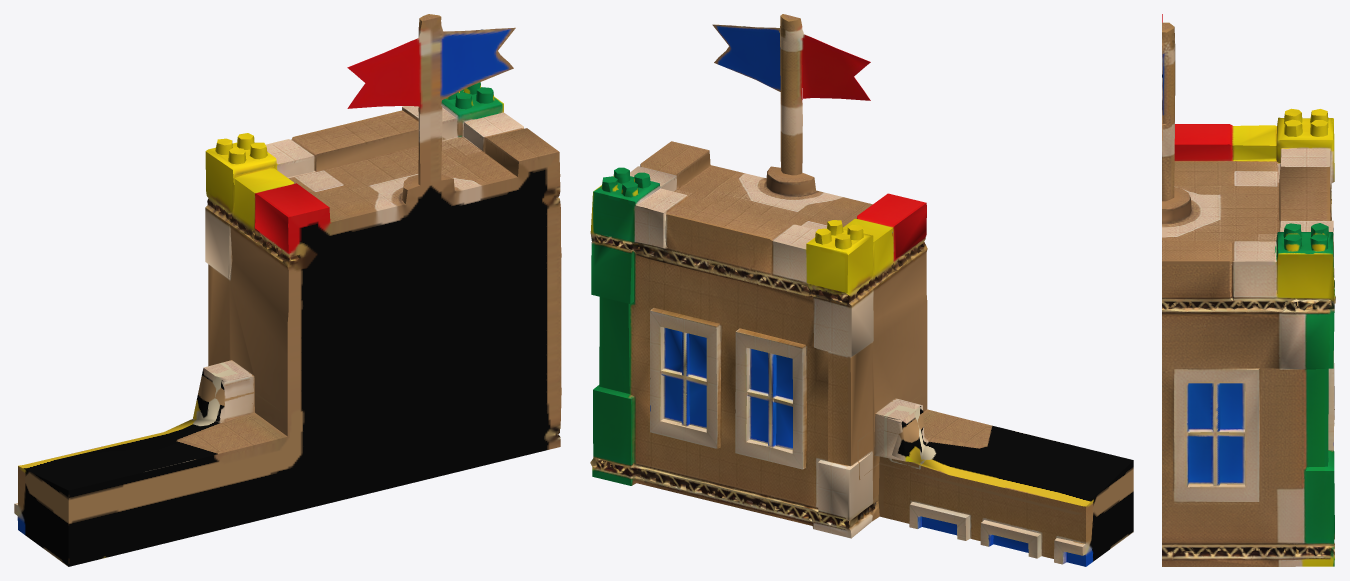
Rendered from 16-topper-back-right.fbx.
3 views of the same model, side by side, from view 1: azimuth 30°, elevation 25°; view 2: azimuth 150°, elevation 25°; view 3: azimuth 270°, elevation 25° (orthographic). The views are drawn at different scales.
Parts seen in each view (by area): view 1: topper-back-right; view 2: topper-back-right; view 3: topper-back-right.
Boxes of the visible parts, x1,y1,x2,y2 form: topper-back-right: (14,14,561,566); topper-back-right: (590,14,1133,566); topper-back-right: (1162,14,1335,566).
Bounding box in the file's own units: 10503 × 9311 × 3089.
1 material, 1 textured.
